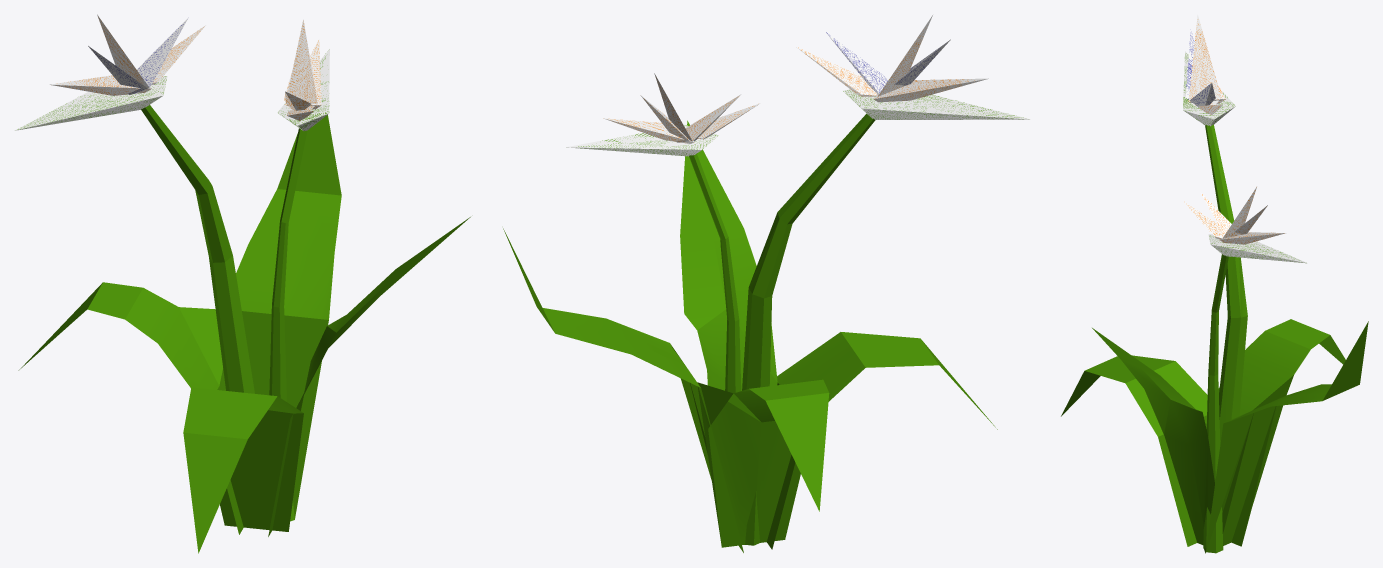
Rendered from Flower_BirdOfParadise_01.fbx.
3 renders of one model, left to right at view 1: azimuth 30°, elevation 25°; view 2: azimuth 150°, elevation 25°; view 3: azimuth 270°, elevation 25°, orthographic. The views are drawn at different scales.
Parts seen in each view (by area): view 1: Model; view 2: Model; view 3: Model.
Part boxes in pixels (x1=…): Model: x1=15, y1=14, x2=470, y2=553; Model: x1=503, y1=15, x2=1030, y2=552; Model: x1=1061, y1=15, x2=1368, y2=553.
Size of the model in its own units: 125 by 160 by 97.27.
